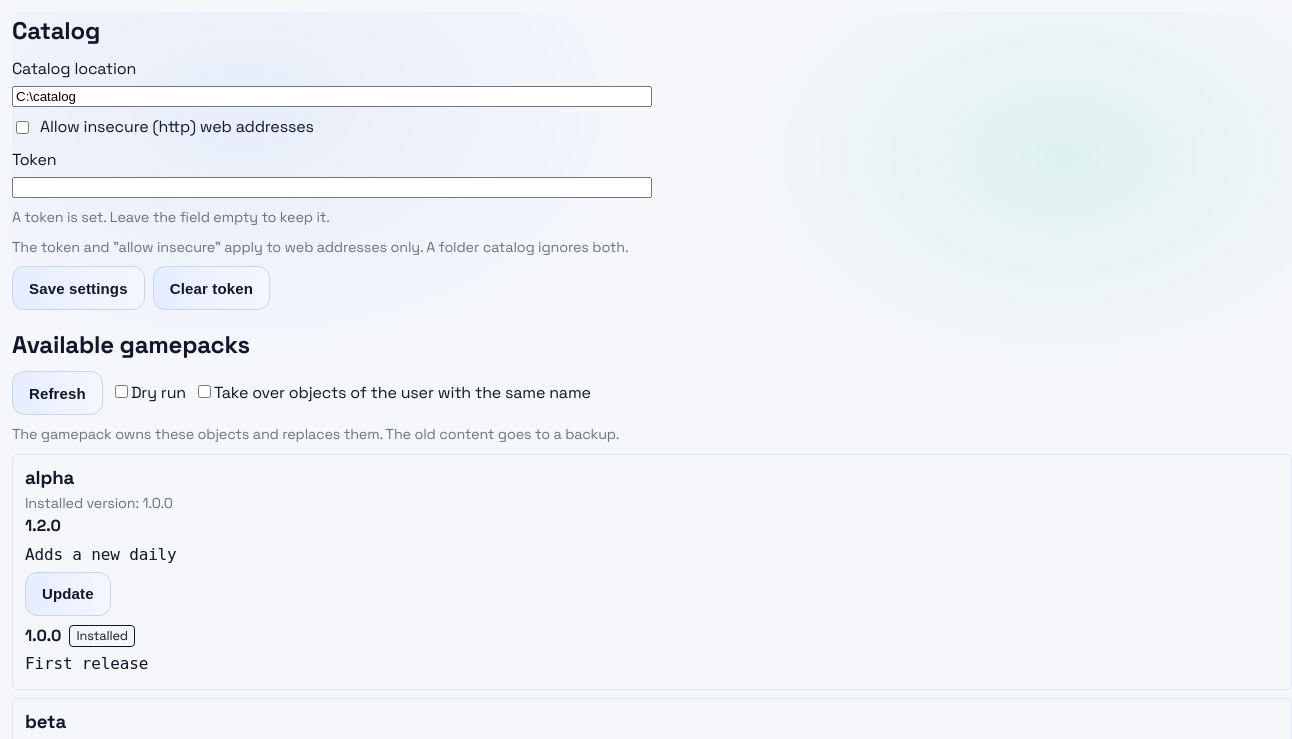
Test: GamepacksPage › runs a dry run when the check box is on
This screenshot has width=1292, height=739.
Step 1. Click the checkbox labelled "Dry run" → (121, 392), box [115,385,128,398]
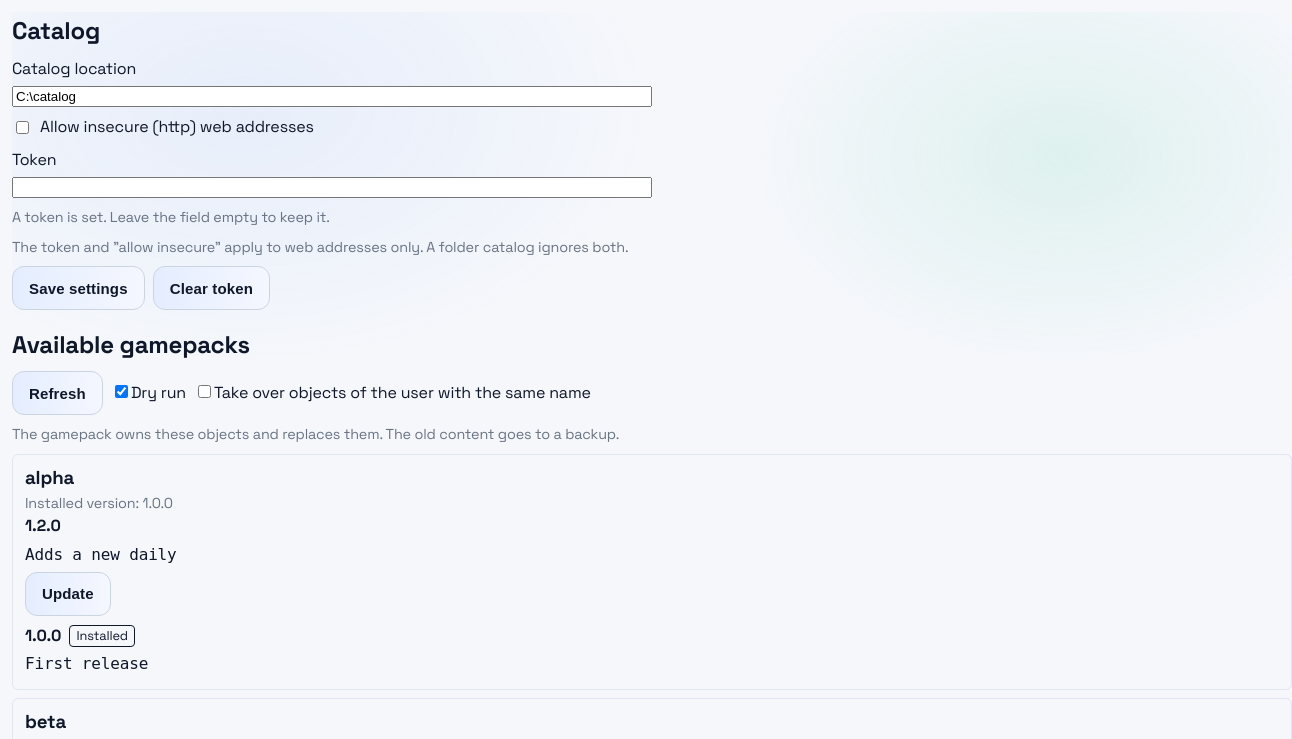
Step 2. Click the button with aria-label "Update alpha 1.2.0" → (68, 594), box [25,572,111,616]
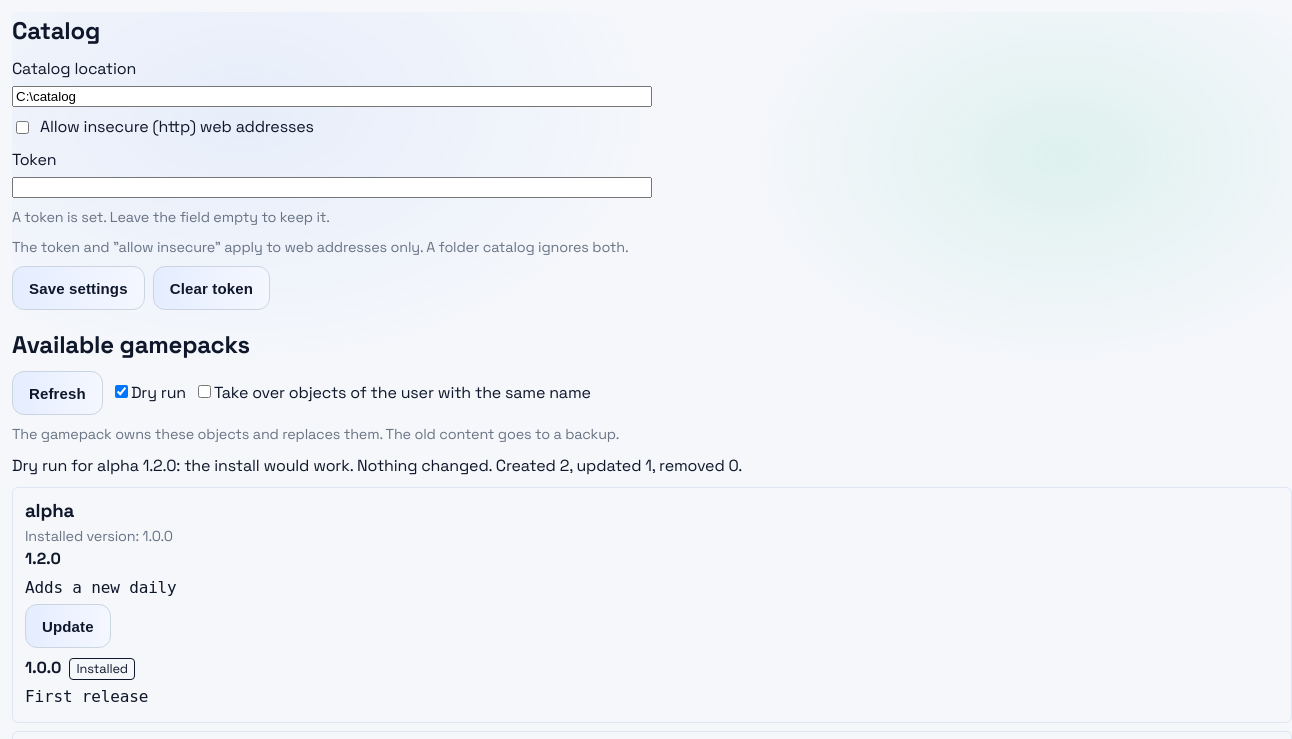
Expected: the text "Dry run for alpha 1.2.0" shows "Nothing changed", [12,455,742,476]
